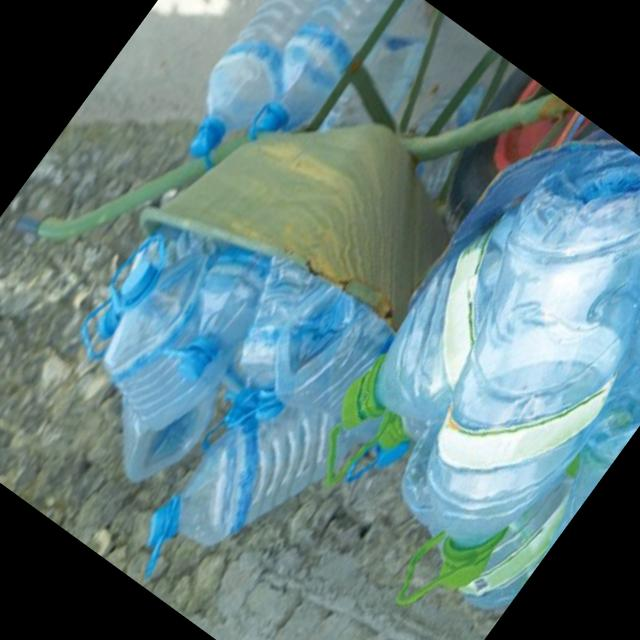Galon: (277, 92, 640, 624), (0, 164, 408, 627), (142, 0, 420, 211)
